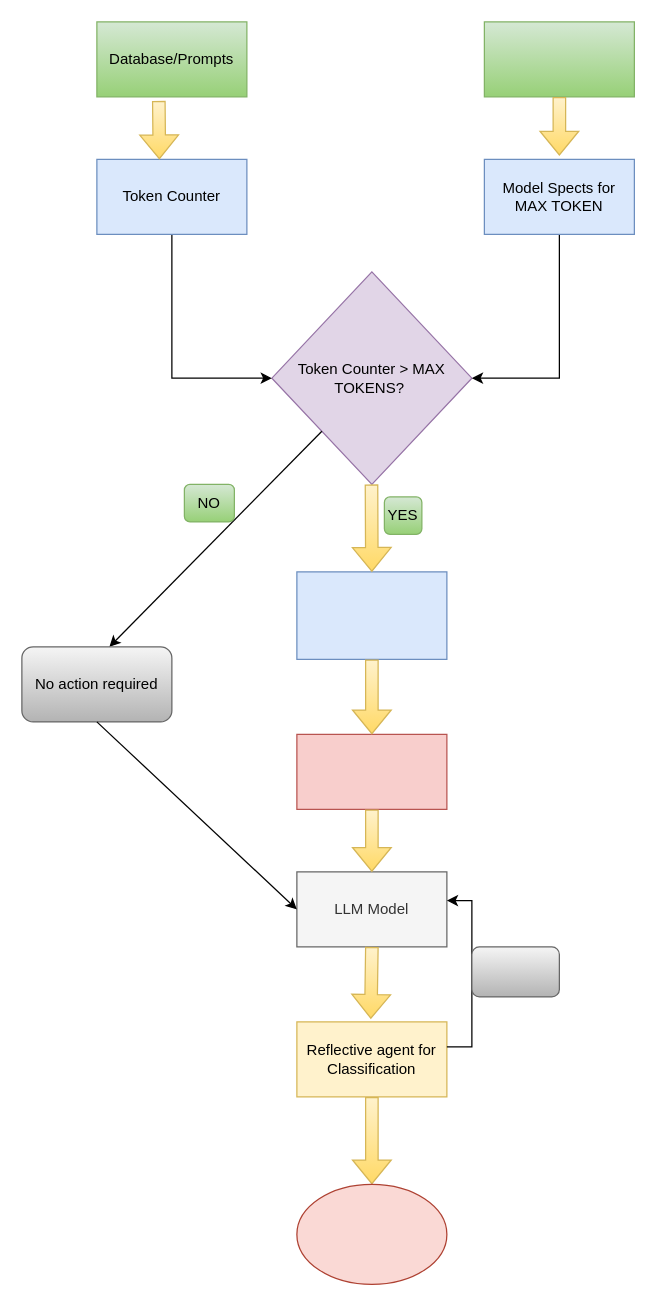
The diagram is 656 pixels wide and 1306 high, and some of its shapes have lost their labels. The centre of each missing label's shape, as x and y in pixels:
"clarification" goes at [515,971].
"Compaction using LLM" goes at [371,615].
"De-Duplication Using sentence embed" goes at [371,771].
"Final Response" goes at [371,1233].
"LLM Model config" goes at [558,59].
